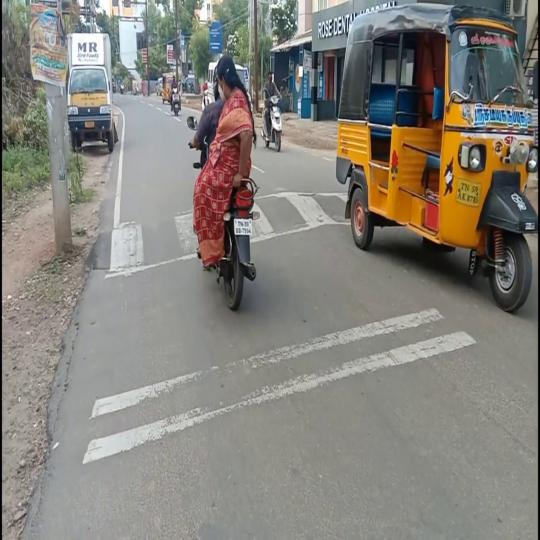Speed Bump: (89, 209, 193, 273), (260, 190, 345, 243)
